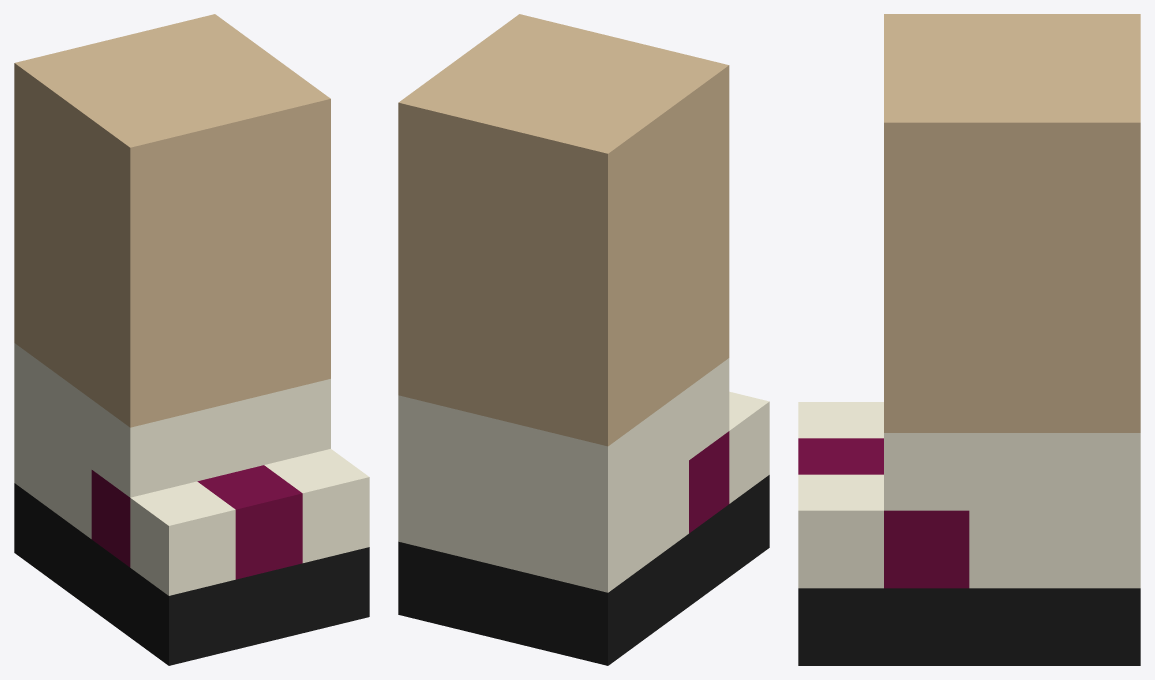
File: kiritan_LegL.obj
The picture shows the model from 3 angles, left to right: view 1: azimuth 30°, elevation 25°; view 2: azimuth 150°, elevation 25°; view 3: azimuth 270°, elevation 25°; orthographic projection. The views are drawn at different scales.
Parts seen in each view (by area): view 1: kiritan_LegL; view 2: kiritan_LegL; view 3: kiritan_LegL.
Boxes of the visible parts, x1,y1,x2,y2 form: kiritan_LegL: (14,14,369,665); kiritan_LegL: (398,14,769,665); kiritan_LegL: (798,14,1140,665).
Size of the model in its own units: 3 by 7 by 4.
1 material, 1 textured.
